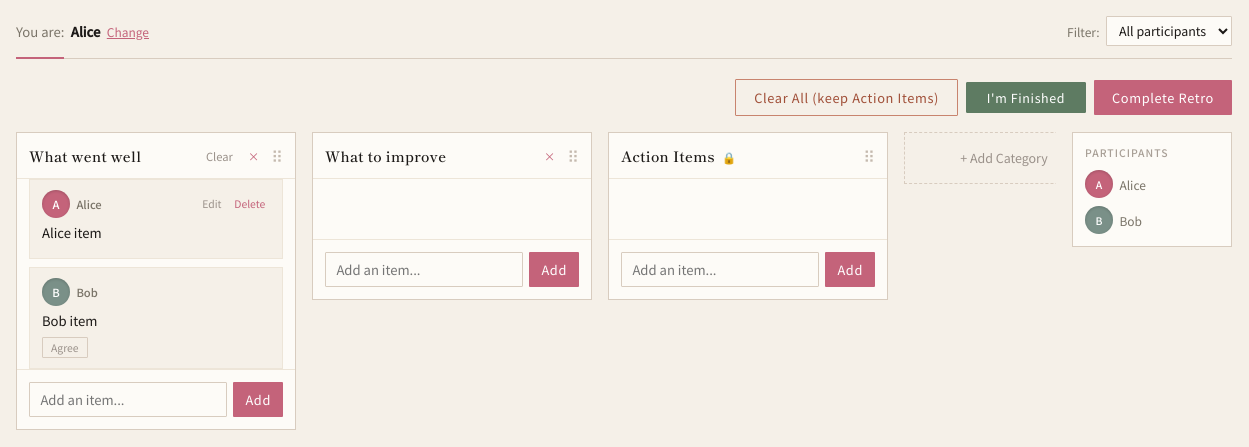
Test: RetroBoard — participant filter › filters to only the selected participant items
The image size is (1249, 447).
Select "Bob" in the dropdown labelled "Filter:": (1169, 31) [1106, 16, 1232, 46]
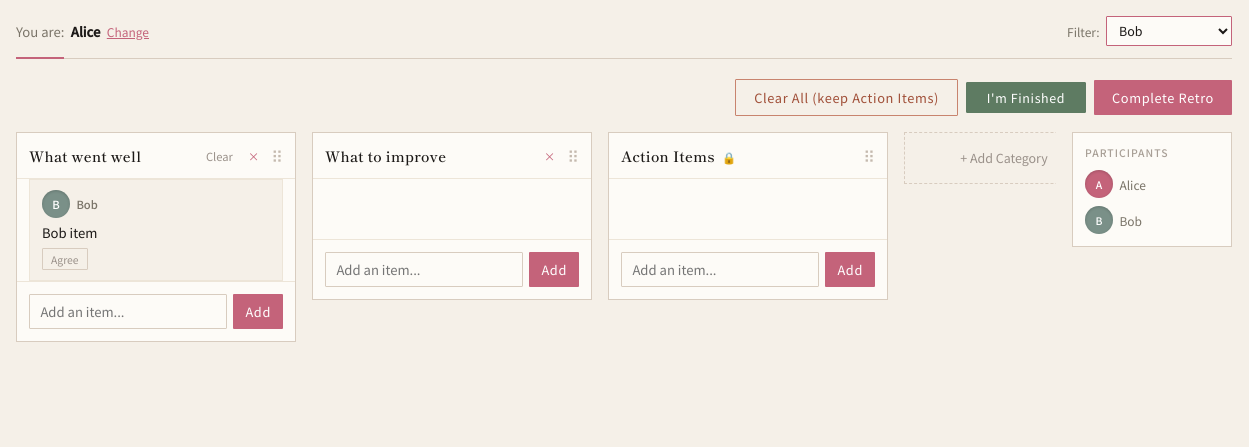
Check: the text "Bob item" is shown, box [42, 223, 97, 242]
Check: the text "Alice item" is gone
